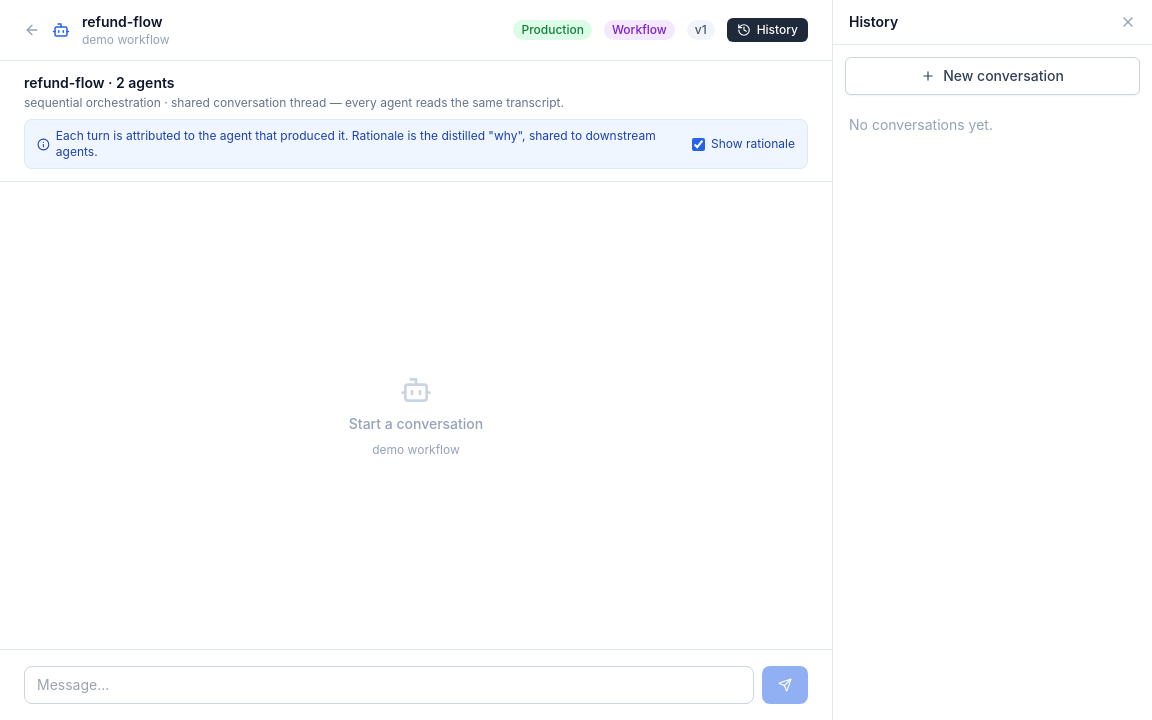
CatalogChatPage — workflow live console › streams member frames into per-author bubbles with tool chip + rationale
This screenshot has width=1152, height=720.
In the field with placeholder "Message...": (389, 685) left=24, top=666, right=754, bottom=704, type "run it"
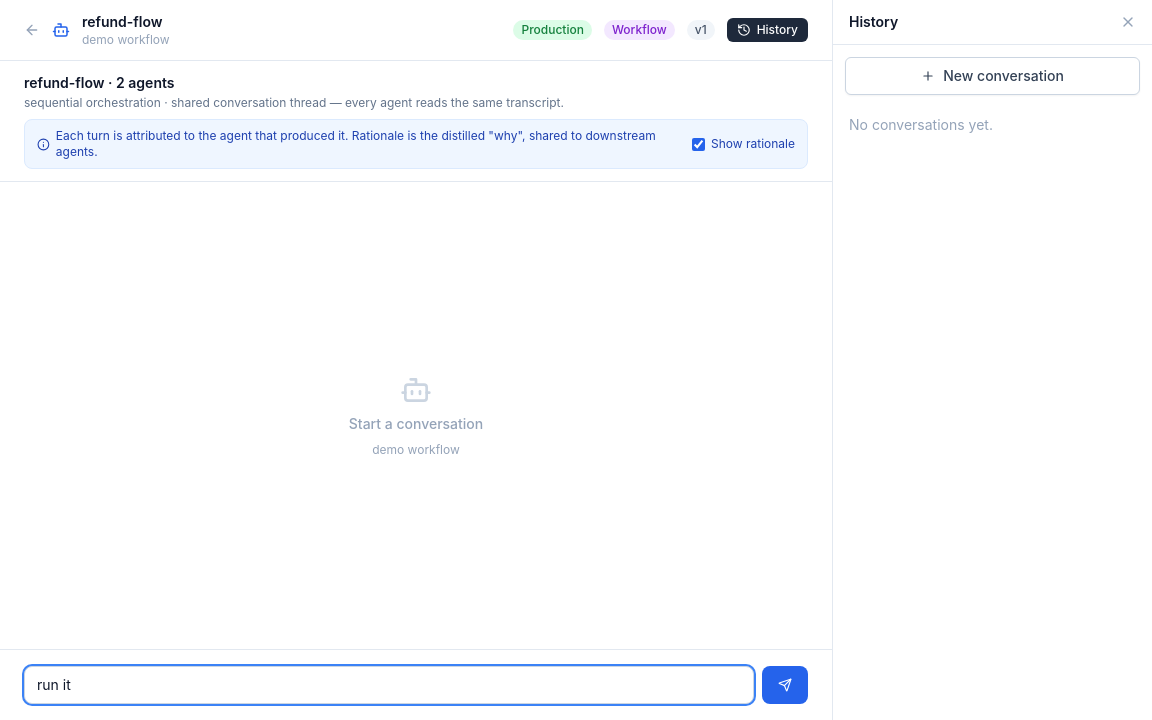
Press Enter
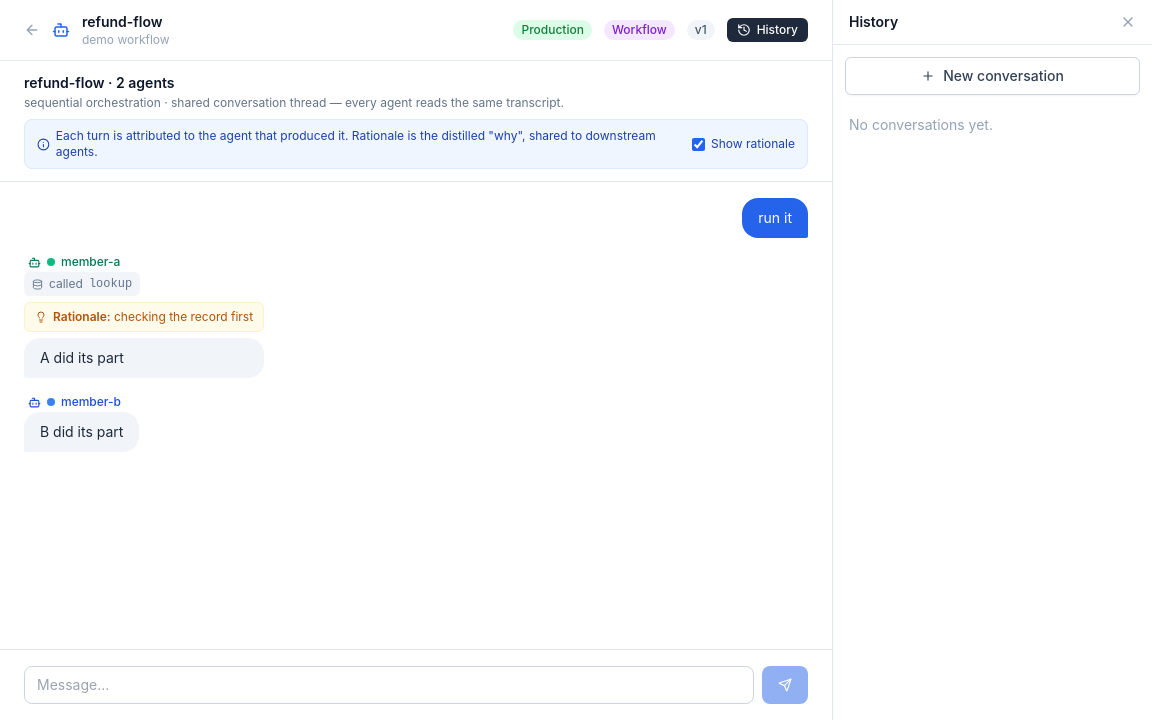
Now the text "member-a" is shown, box left=61, top=254, right=120, bottom=270
Now the text "member-b" is shown, box left=61, top=394, right=121, bottom=410
Now the text "lookup" is shown, box left=89, top=276, right=132, bottom=292
